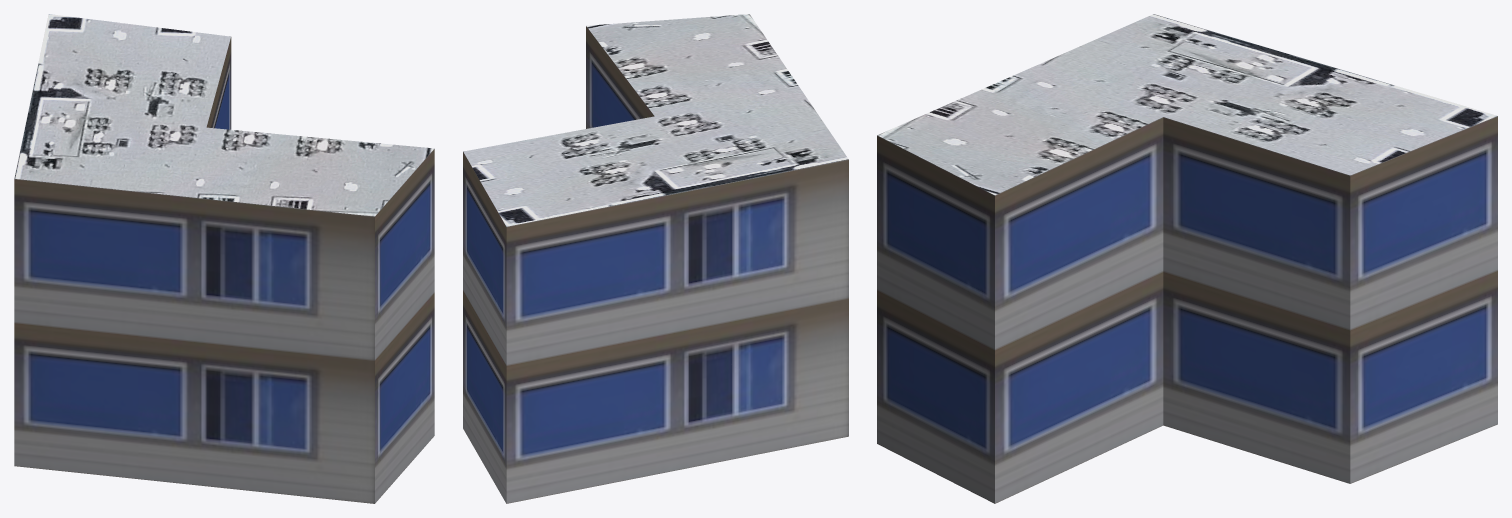
The model's file is ResTex__2714.fbx.
3 views of the same model, side by side, from view 1: azimuth 30°, elevation 25°; view 2: azimuth 150°, elevation 25°; view 3: azimuth 270°, elevation 25° (orthographic). The views are drawn at different scales.
Visible parts, largest first — view 1: CityEngineMaterial_23_m, CityEngineMaterial_4_m; view 2: CityEngineMaterial_23_m, CityEngineMaterial_4_m; view 3: CityEngineMaterial_23_m, CityEngineMaterial_4_m.
Part boxes in pixels (x1,y1,x2,y2): CityEngineMaterial_23_m: (14, 37, 434, 503); CityEngineMaterial_4_m: (14, 14, 434, 216); CityEngineMaterial_23_m: (463, 26, 848, 503); CityEngineMaterial_4_m: (463, 14, 848, 226); CityEngineMaterial_23_m: (877, 116, 1497, 503); CityEngineMaterial_4_m: (877, 14, 1496, 195).
Size of the model in its own units: 7.57 by 6 by 10.94.
2 materials, 2 textured.
